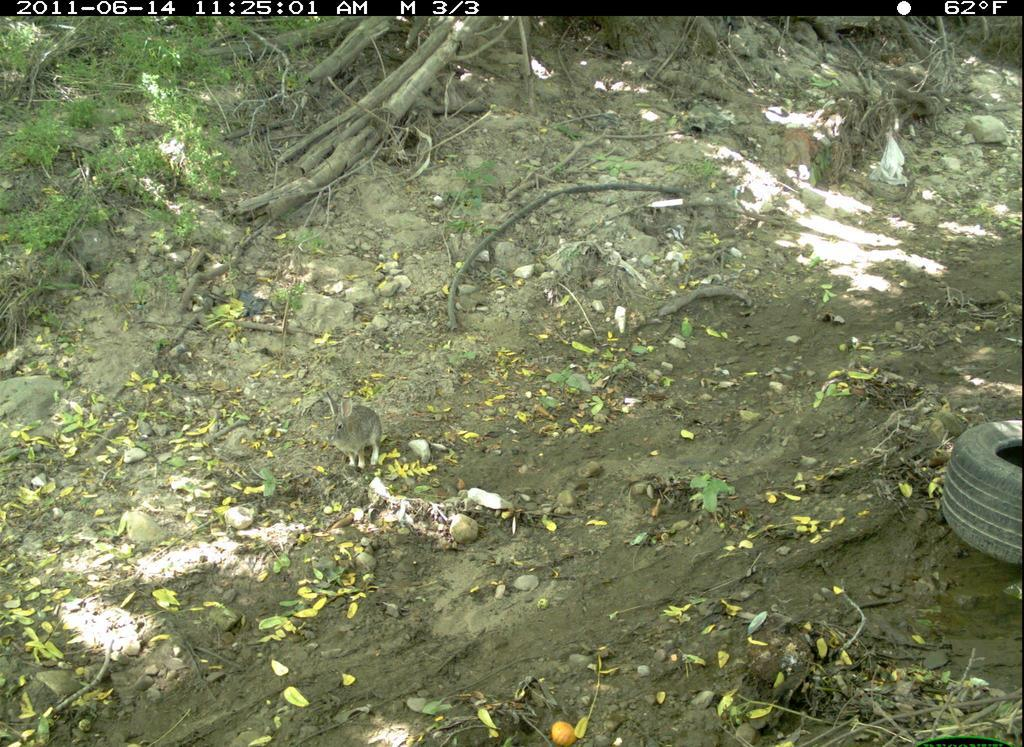rabbit: (315, 392, 392, 481)
